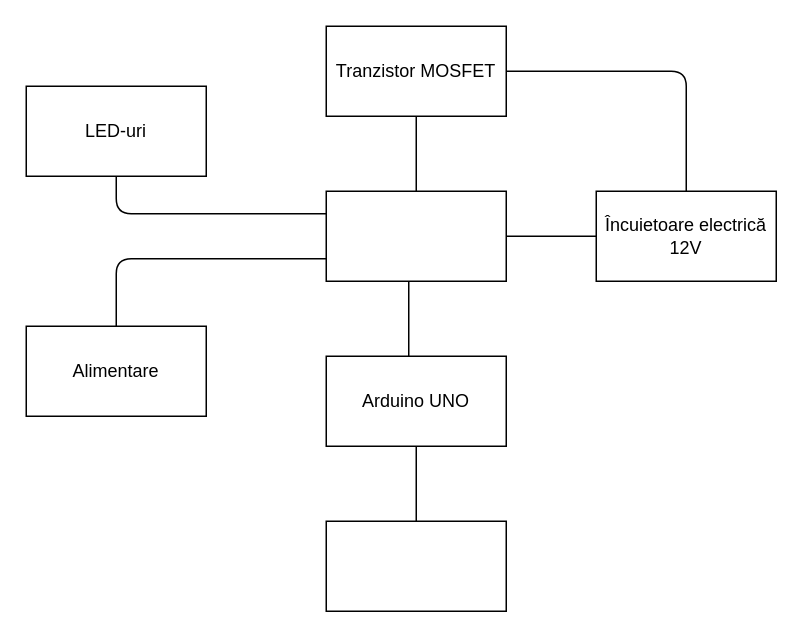
The diagram is 803 pixels wide and 638 high, and some of its shapes have lost their labels. The shapes that lost their labels are listed below. From the top down, each one's centre as x and y in pixels, then its label:
At (415,235): "Breadboard".
At (415,565): "RFID Reader".
